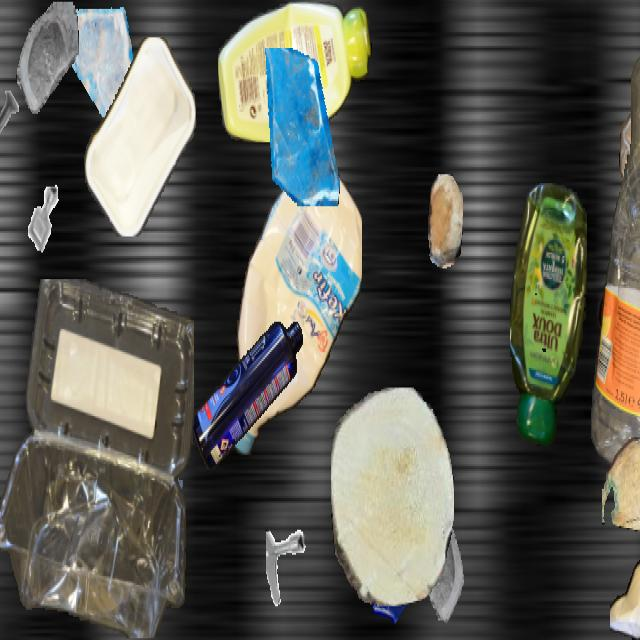glass: (256, 48, 344, 204), (107, 426, 183, 562), (401, 502, 477, 636), (63, 2, 135, 130), (361, 512, 423, 622), (16, 2, 78, 112)
metal: (266, 526, 326, 633), (18, 172, 70, 265), (0, 80, 27, 176)
plastic: (0, 279, 193, 638), (232, 153, 362, 462), (591, 2, 640, 471), (83, 38, 197, 236), (218, 2, 372, 140), (510, 183, 586, 446), (192, 322, 302, 468), (597, 197, 640, 439), (618, 71, 640, 377), (610, 489, 640, 638)
wood: (331, 388, 453, 604), (602, 437, 640, 530), (428, 174, 462, 267)
